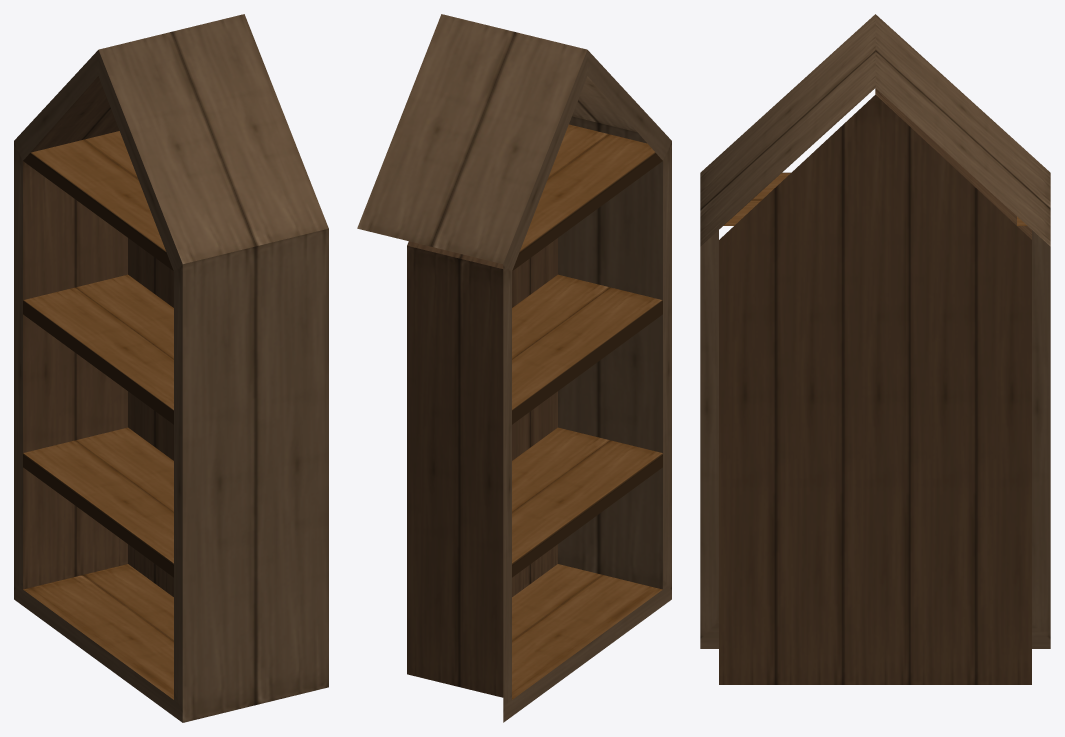
File: Shelf_Big.fbx
3 renders of one model, left to right at view 1: azimuth 30°, elevation 25°; view 2: azimuth 150°, elevation 25°; view 3: azimuth 270°, elevation 25°, orthographic. The views are drawn at different scales.
Parts seen in each view (by area): view 1: pCube676; view 2: pCube676; view 3: pCube676.
Part boxes in pixels (x1=…): pCube676: x1=14, y1=14, x2=328, y2=722; pCube676: x1=357, y1=14, x2=671, y2=722; pCube676: x1=700, y1=14, x2=1050, y2=684.
Size of the model in its own units: 1 by 4 by 2.
